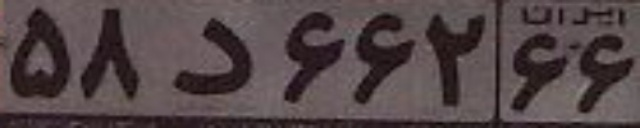2: (425, 12, 487, 106)
5: (6, 6, 70, 97)
6: (278, 11, 343, 102), (354, 12, 415, 103), (510, 31, 566, 110), (579, 32, 632, 113)
8: (79, 8, 140, 98)
dal: (172, 17, 254, 95)
